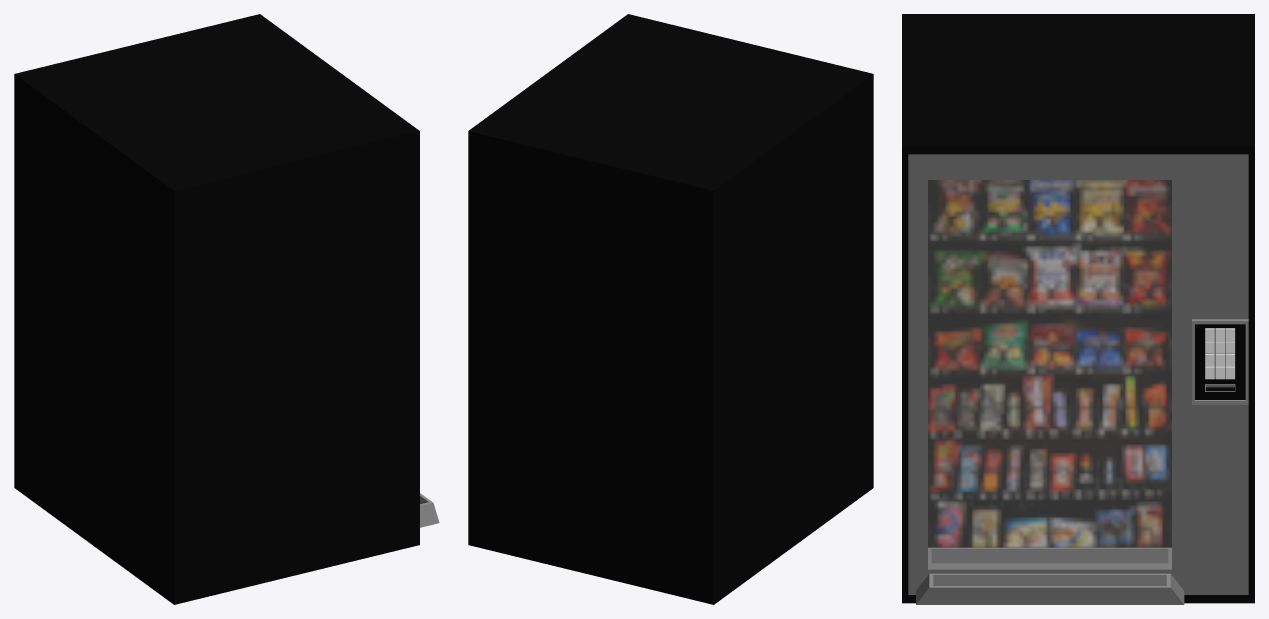
File: VendingMachine.glb
3 views of the same model, side by side, from view 1: azimuth 30°, elevation 25°; view 2: azimuth 150°, elevation 25°; view 3: azimuth 270°, elevation 25° (orthographic). The views are drawn at different scales.
Visible parts, largest first — view 1: Cube; view 2: Cube; view 3: Cube.
Boxes of the visible parts, x1,y1,x2,y2 form: Cube: [14, 14, 439, 604]; Cube: [468, 14, 873, 604]; Cube: [902, 14, 1254, 604].
Size of the model in its own units: 1.24 by 1.8 by 1.26.
Materials: 7 (1 with a texture image).
